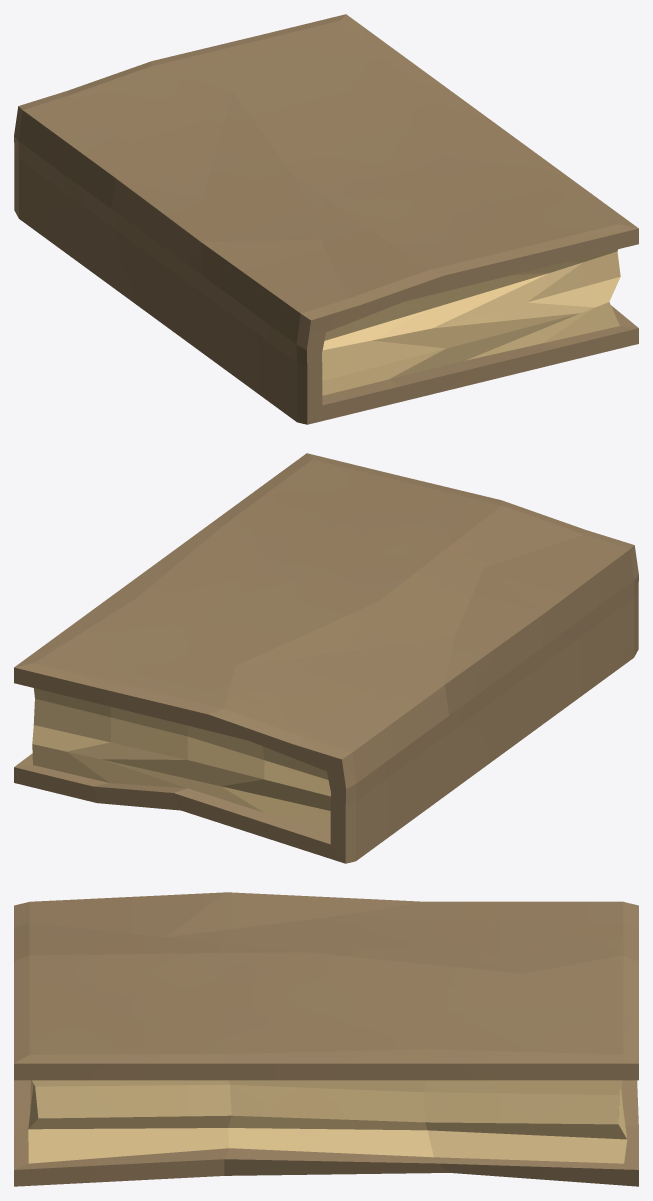
File: book_1.glb
3 renders of one model, top to bottom at view 1: azimuth 30°, elevation 25°; view 2: azimuth 150°, elevation 25°; view 3: azimuth 270°, elevation 25°, orthographic. The views are drawn at different scales.
Visible parts, largest first — view 1: book_1; view 2: book_1; view 3: book_1.
Part boxes in pixels (x1,y1,x2,y2): book_1: (14,14,638,424); book_1: (14,453,638,863); book_1: (14,892,638,1186).
Size of the model in its own units: 0.1416 by 0.0481 by 0.2125.
1 material, 1 textured.
